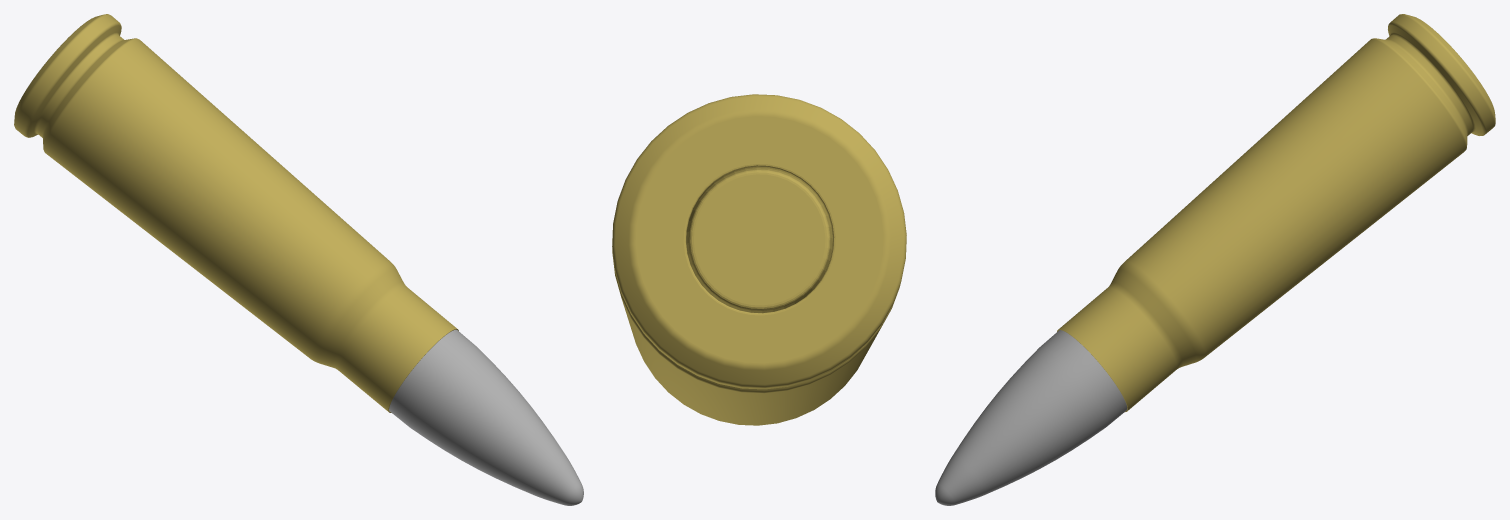
The model's file is balle_belle.fbx.
The picture shows the model from 3 angles, left to right: view 1: azimuth 30°, elevation 25°; view 2: azimuth 150°, elevation 25°; view 3: azimuth 270°, elevation 25°; orthographic projection. The views are drawn at different scales.
Parts seen in each view (by area): view 1: Group024; view 2: Group024; view 3: Group024.
Part boxes in pixels (box(x1,y1,x2,y2)): Group024: box(14, 14, 583, 505); Group024: box(612, 94, 906, 425); Group024: box(935, 14, 1495, 505).
Size of the model in its own units: 30 by 32.56 by 45.
